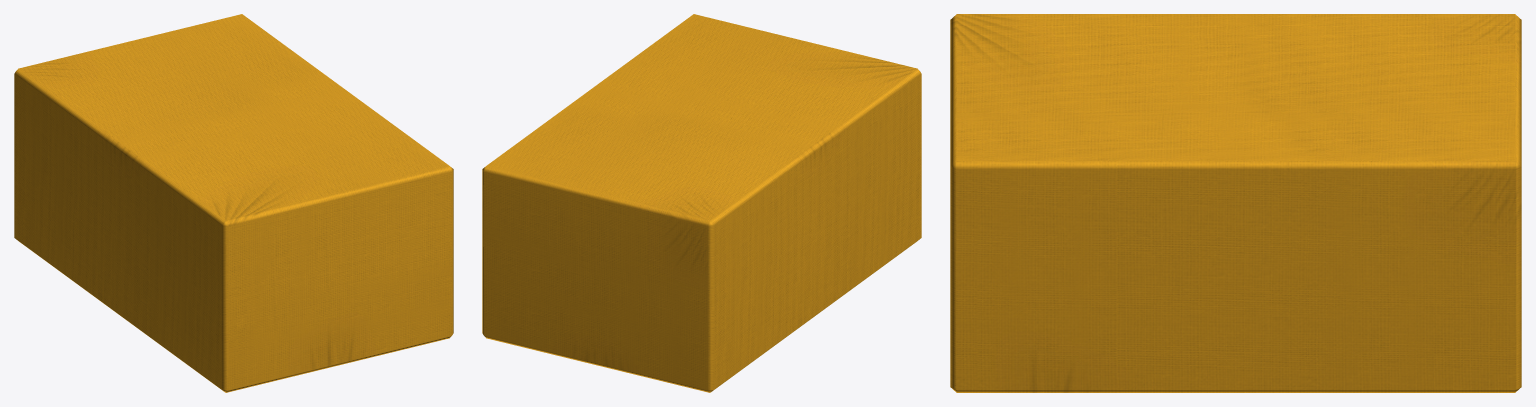
The model's file is OBS0110040.fbx.
3 renders of one model, left to right at view 1: azimuth 30°, elevation 25°; view 2: azimuth 150°, elevation 25°; view 3: azimuth 270°, elevation 25°, orthographic. The views are drawn at different scales.
Parts seen in each view (by area): view 1: smOBS0110040; view 2: smOBS0110040; view 3: smOBS0110040.
Boxes of the visible parts, left/top/right/bottom form: smOBS0110040: left=14, top=14, right=453, bottom=392; smOBS0110040: left=482, top=14, right=921, bottom=392; smOBS0110040: left=950, top=14, right=1521, bottom=392.
Size of the model in its own units: 164 by 117 by 260.
1 material, 1 textured.
